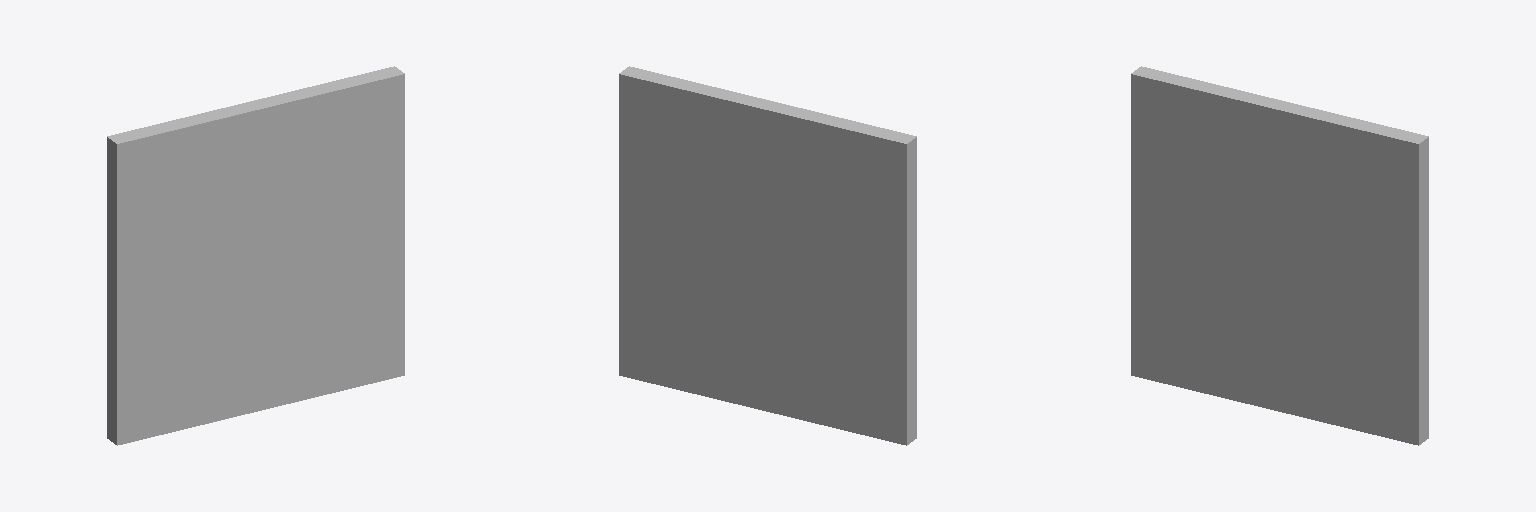
The model's file is ściana 2.obj.
3 renders of one model, left to right at view 1: azimuth 30°, elevation 25°; view 2: azimuth 150°, elevation 25°; view 3: azimuth 330°, elevation 25°, orthographic.
Visible parts, largest first — view 1: object 1; view 2: object 1; view 3: object 1.
Boxes of the visible parts, <box> form: object 1: <box>107,66,404,445</box>; object 1: <box>619,66,916,445</box>; object 1: <box>1131,66,1428,445</box>.
Size of the model in its own units: 12.6 by 12.6 by 0.8.